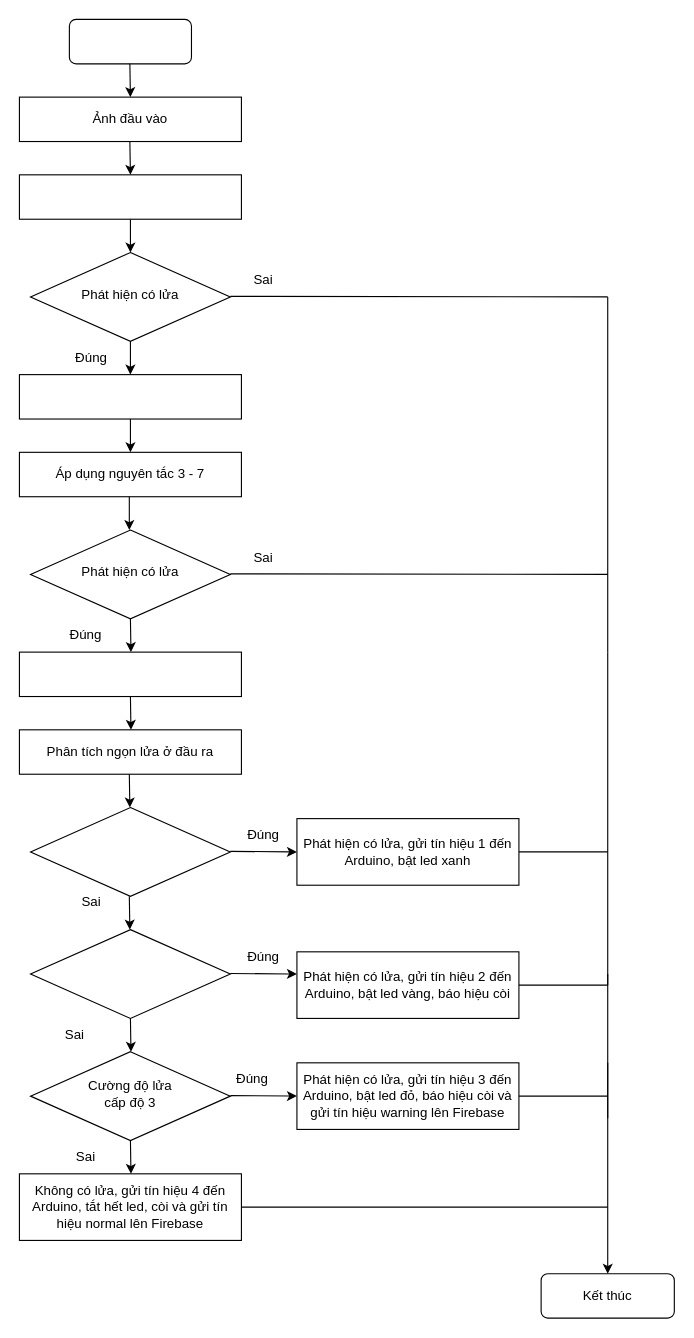
Some shapes in this 694 by 1338 pixel diagram are drawn without their labels. The shapes that lost their labels are listed below. From the top down, each one's box as (x1, y1, x2, y2) in pixels, then its label:
(68, 18, 191, 64): Bắt đầu
(18, 174, 241, 219): Áp dụng nguyên tắc 1, 2
(18, 374, 241, 419): Đổi ảnh từ RGB sang YCbCr
(18, 651, 241, 697): Hiển thị phần có lửa ở đầu ra
(29, 806, 230, 896): Cường độ lửa cấp độ 1
(29, 929, 230, 1018): Cường độ lửa cấp độ 2
